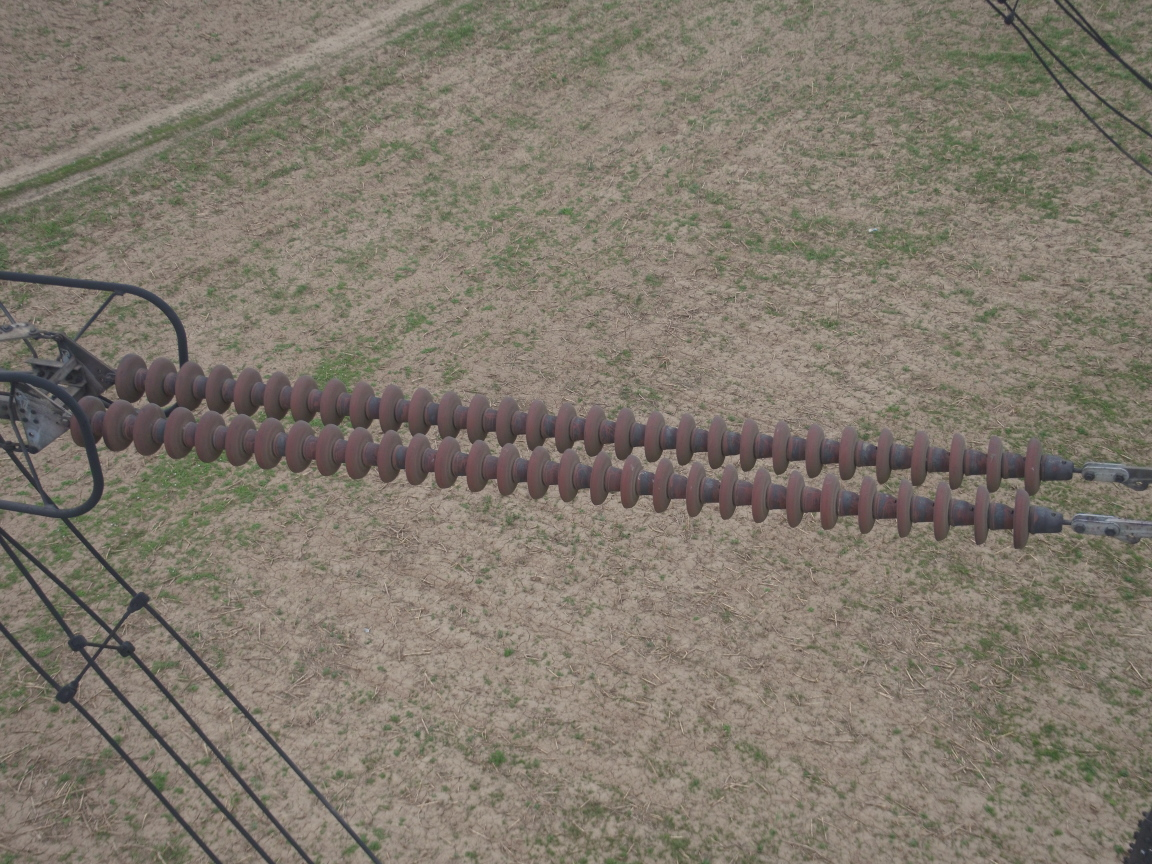insulator: (51, 344, 1122, 559)
